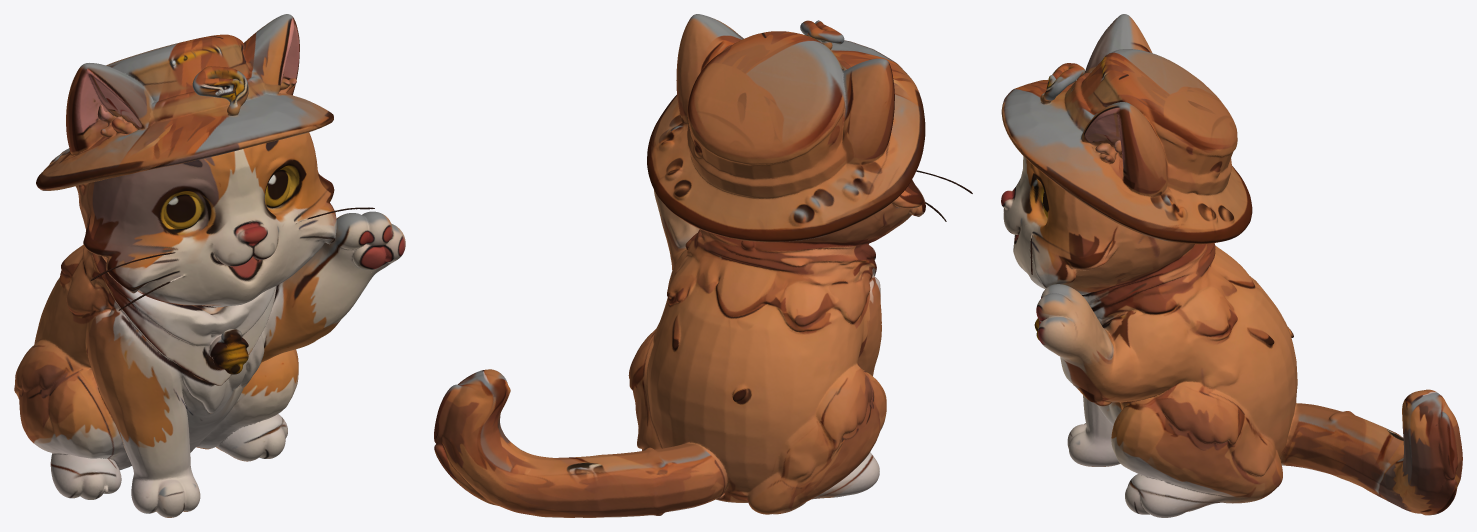
File: tripo_convert_99d89363-d7bd-4c96-9146-c477d642dbac.fbx
3 views of the same model, side by side, from view 1: azimuth 30°, elevation 25°; view 2: azimuth 150°, elevation 25°; view 3: azimuth 270°, elevation 25° (orthographic). The views are drawn at different scales.
Parts seen in each view (by area): view 1: tripo_node_99d89363; view 2: tripo_node_99d89363; view 3: tripo_node_99d89363.
Part boxes in pixels (left/top/right/bottom): tripo_node_99d89363: left=14, top=14, right=405, bottom=517; tripo_node_99d89363: left=434, top=14, right=972, bottom=517; tripo_node_99d89363: left=1001, top=14, right=1462, bottom=517.
Bounding box in the file's own units: 0.8121 × 0.9957 × 0.9999.
1 material, 1 textured.
